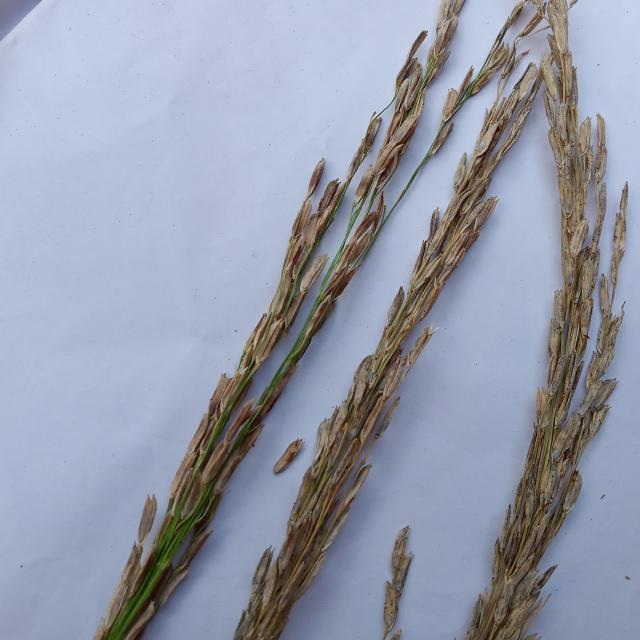Neck_Blast: (239, 56, 546, 640), (160, 15, 469, 528), (454, 0, 631, 640)
